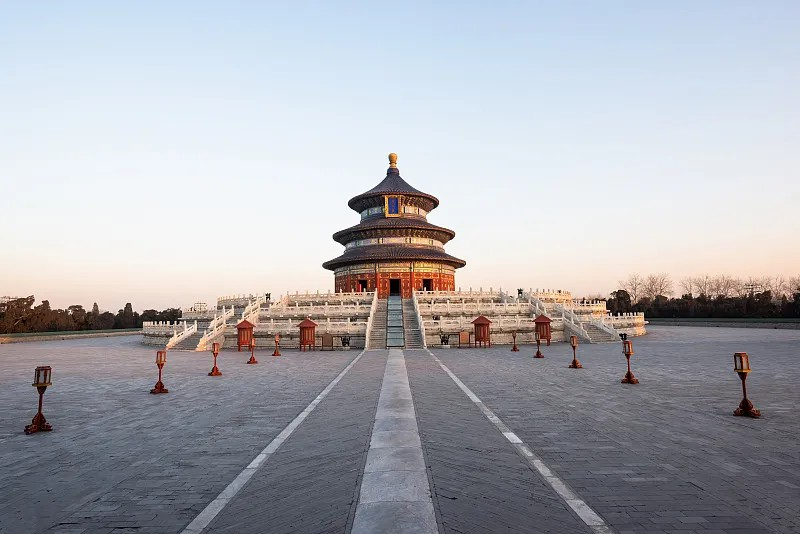Heaven: (322, 153, 467, 296)
